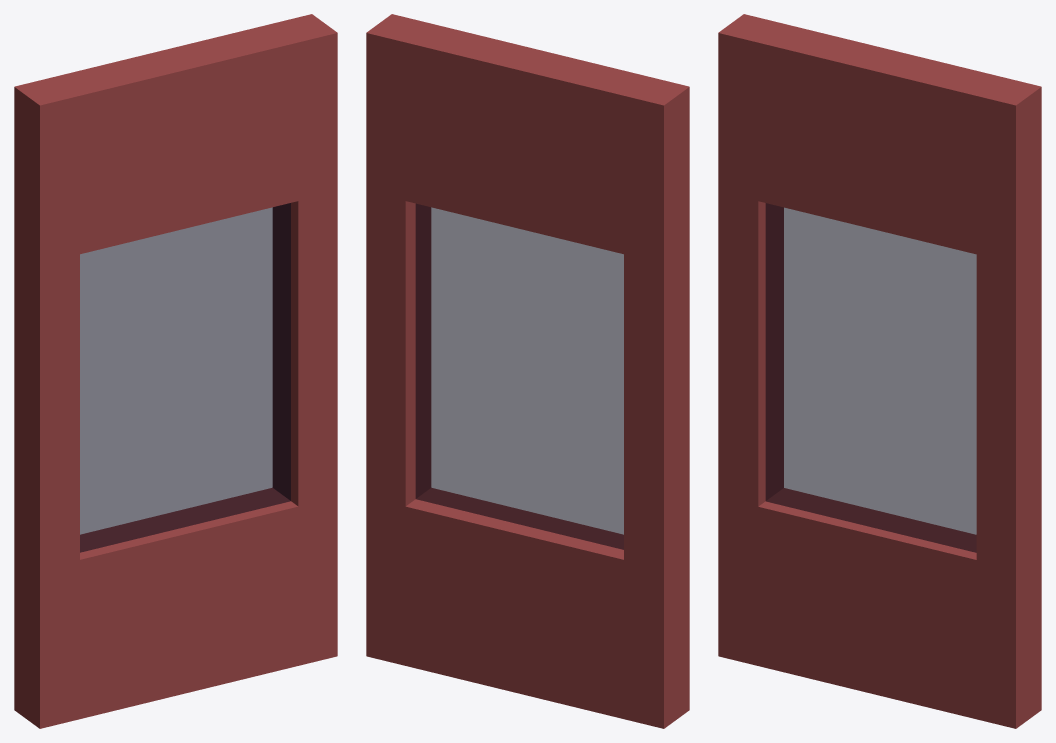
The model's file is PeachWindow.glb.
The picture shows the model from 3 angles, left to right: view 1: azimuth 30°, elevation 25°; view 2: azimuth 150°, elevation 25°; view 3: azimuth 330°, elevation 25°; orthographic projection.
Visible parts, largest first — view 1: wall_peach_window; view 2: wall_peach_window; view 3: wall_peach_window.
Boxes of the visible parts, <box> form: wall_peach_window: <box>14,14,337,728</box>; wall_peach_window: <box>366,14,689,728</box>; wall_peach_window: <box>718,14,1041,728</box>.
Size of what is drawn, in the model's own units: 2 by 4 by 0.3.
Materials: 2 (2 with a texture image).
